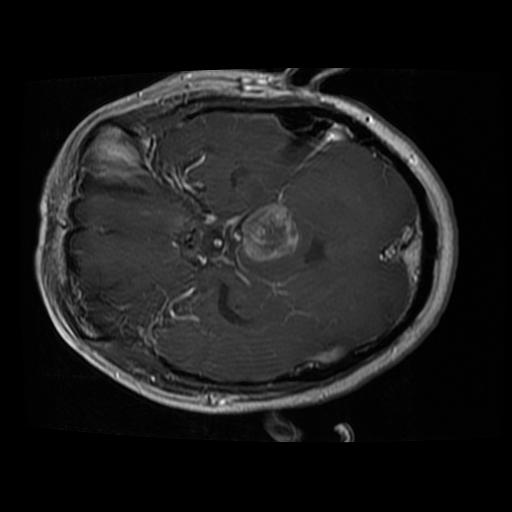glioma: (240, 202, 301, 262)
